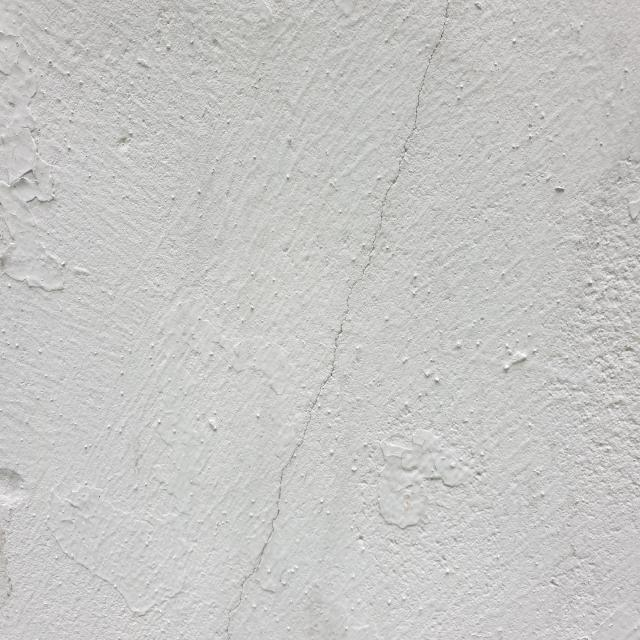SurfaceCrack: (204, 0, 481, 640)
